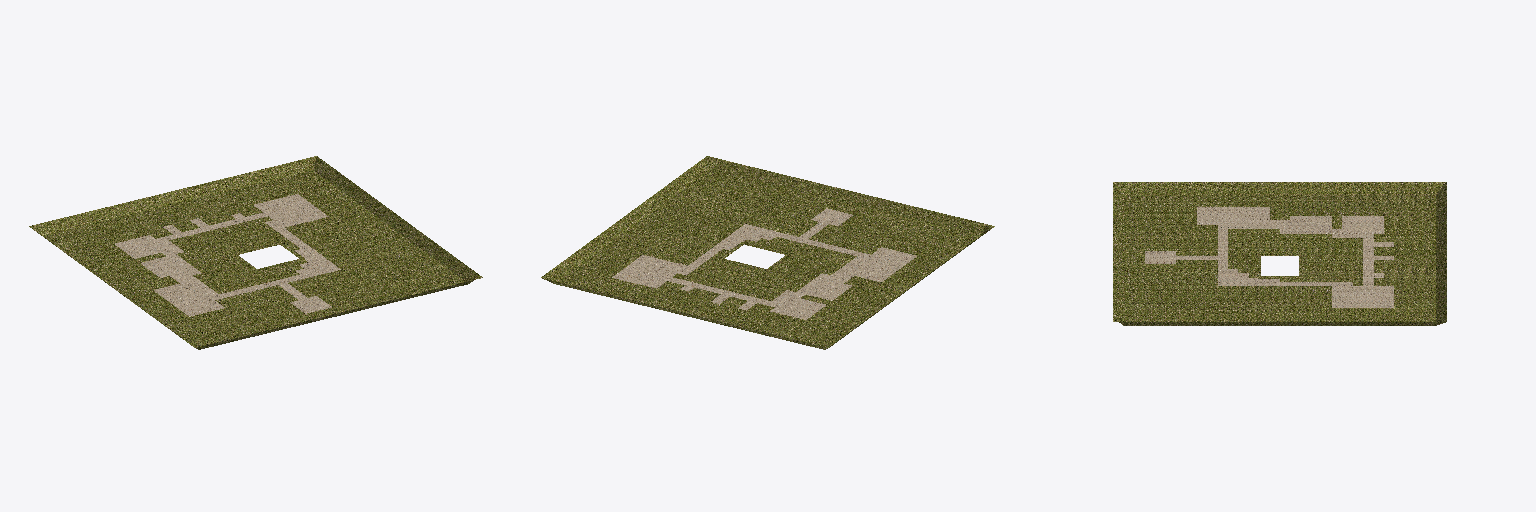
3 renders of one model, left to right at view 1: azimuth 30°, elevation 25°; view 2: azimuth 150°, elevation 25°; view 3: azimuth 270°, elevation 25°, orthographic.
Size of the model in its own units: 380 by 10 by 380.
2 materials, 2 textured.